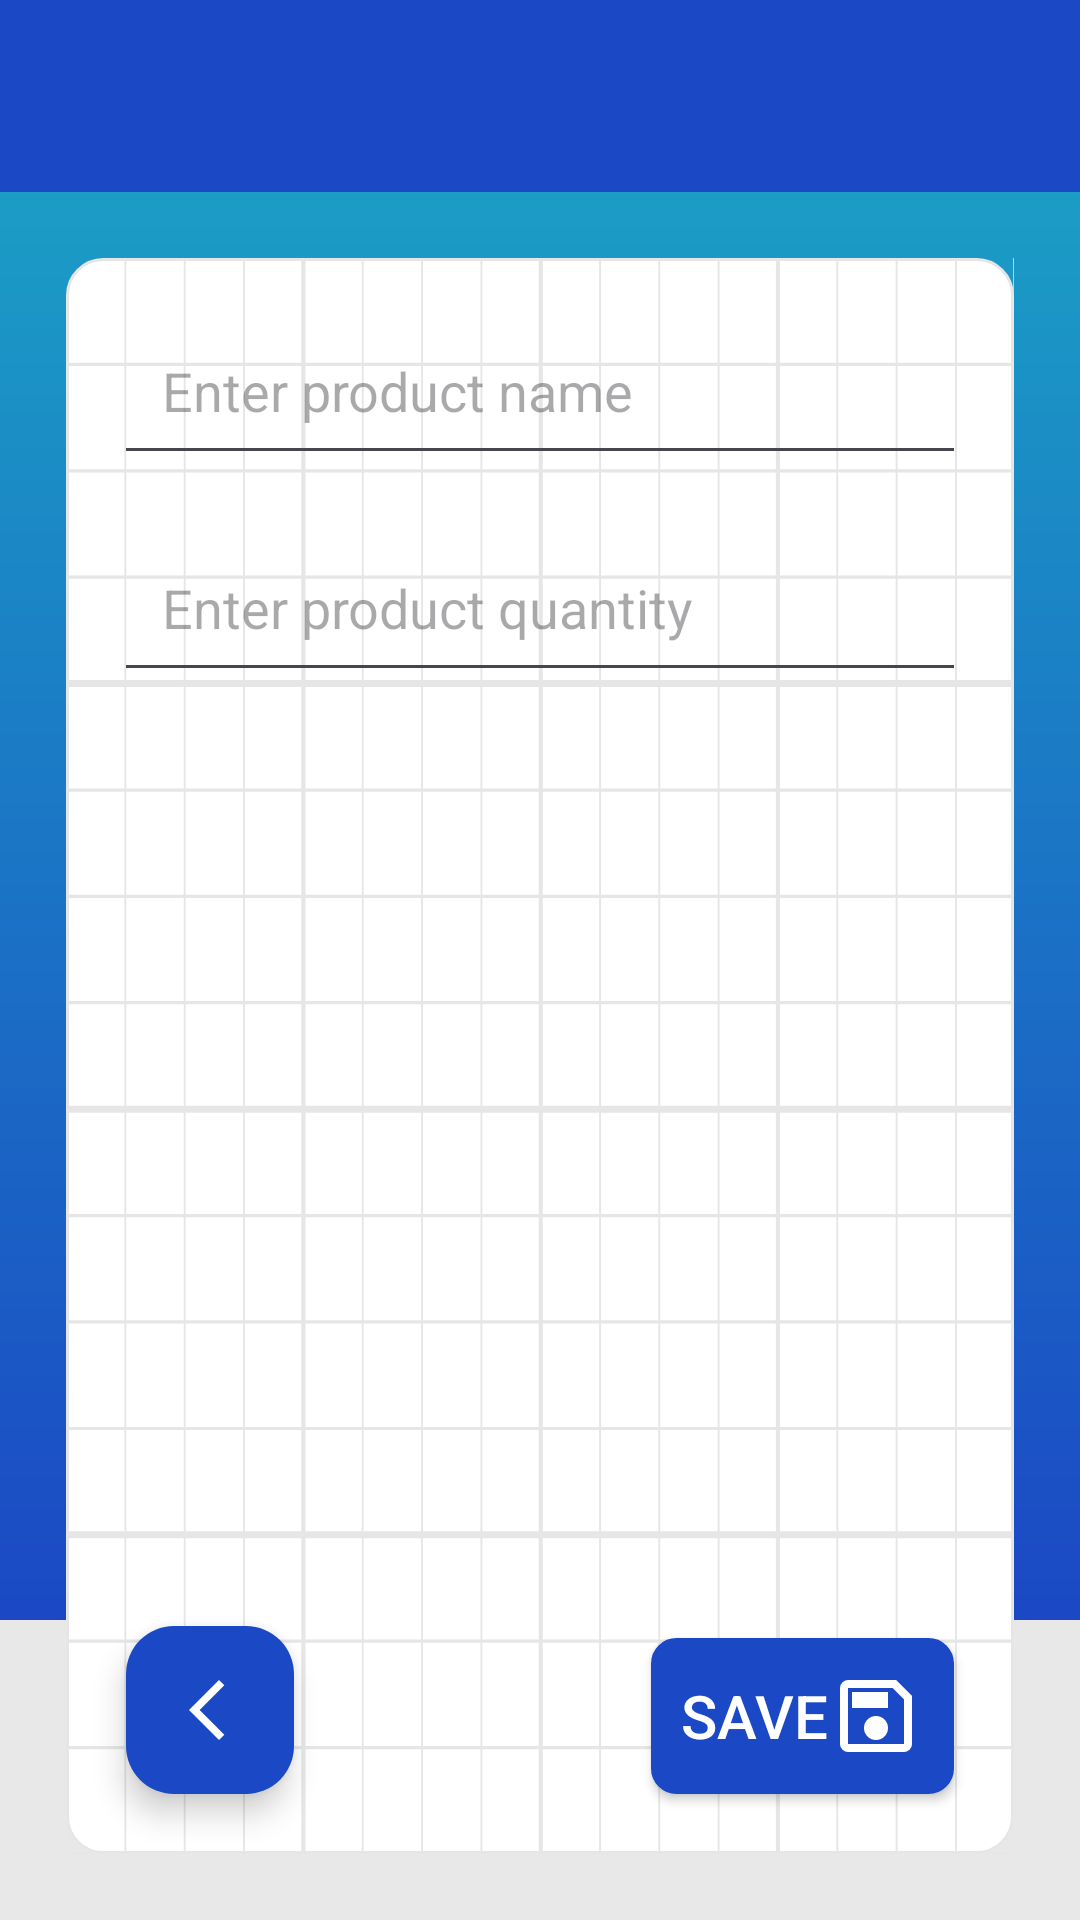

Screen size 1080 × 1920. Icon name, then its box in pixels as {"left": x1, "top": y1, "right": x2, "bottom": y2}:
Back to previous Page Icon: {"left": 126, "top": 1626, "right": 294, "bottom": 1794}
